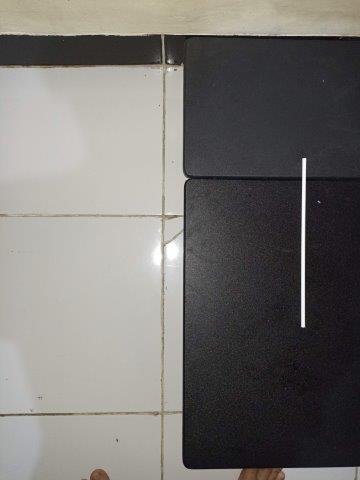sedotan: (301, 158, 307, 327)
